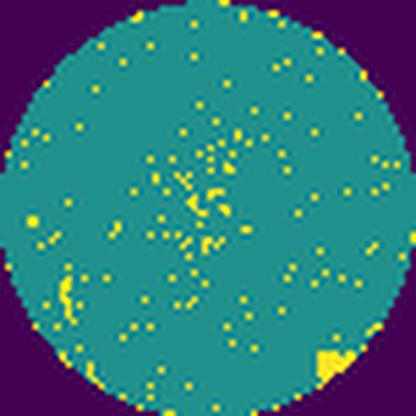Edge-Loc: (308, 341, 360, 384)
